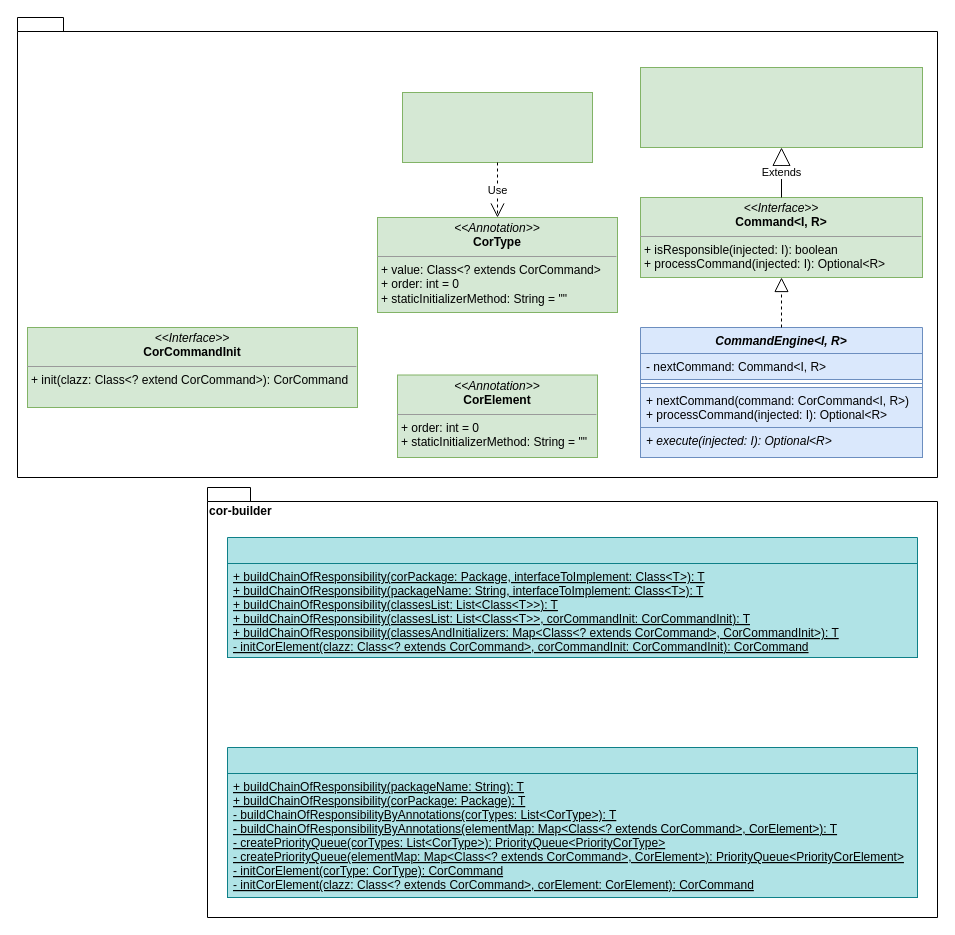
Image size: 955x935. Some labels were removed from this diagram. Here are the shapes that lost their labels. From the top down, the box of each, then its label:
(402, 92, 592, 162): <<Annotation>> CorPackage + value: CorType[]
(640, 66, 922, 148): <<Interface>> CorCommand<I, R> + nextCommand(command: CorCommand<I, R>)
(16, 16, 938, 478): cor-api
(226, 536, 918, 658): ClassCorBuilder
(226, 746, 918, 898): AnnotationCorBuilder
